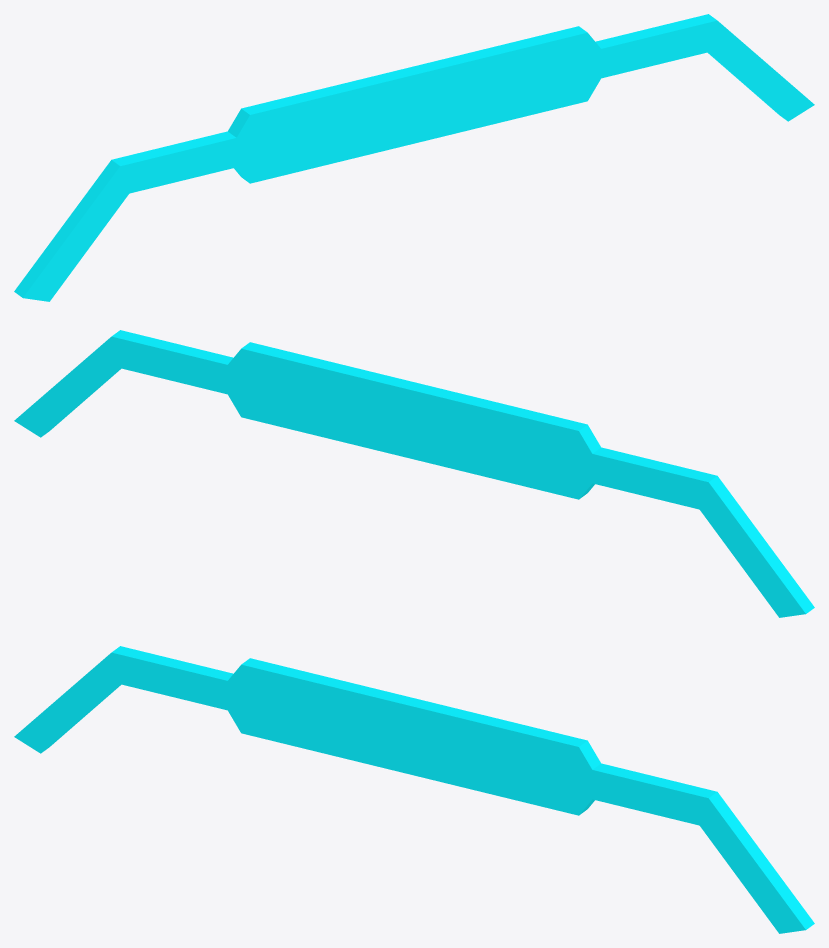
Rendered from SM_Hud_Barrier_03.glb.
The picture shows the model from 3 angles, top to bottom: view 1: azimuth 30°, elevation 25°; view 2: azimuth 150°, elevation 25°; view 3: azimuth 330°, elevation 25°; orthographic projection.
Visible parts, largest first — view 1: SM_Hud_Barrier_03; view 2: SM_Hud_Barrier_03; view 3: SM_Hud_Barrier_03.
Part boxes in pixels (<box>): SM_Hud_Barrier_03: <box>14,14,814,301</box>; SM_Hud_Barrier_03: <box>14,330,814,617</box>; SM_Hud_Barrier_03: <box>14,646,814,933</box>.
Size of the model in its own units: 0.9429 by 0.157 by 0.0183.
